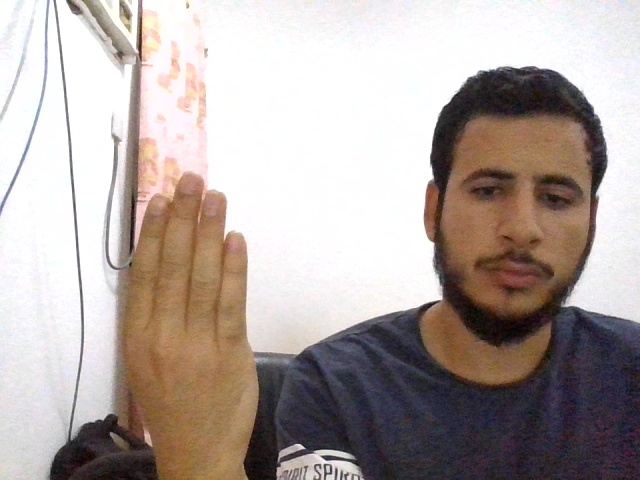Four: (123, 172, 260, 474)
